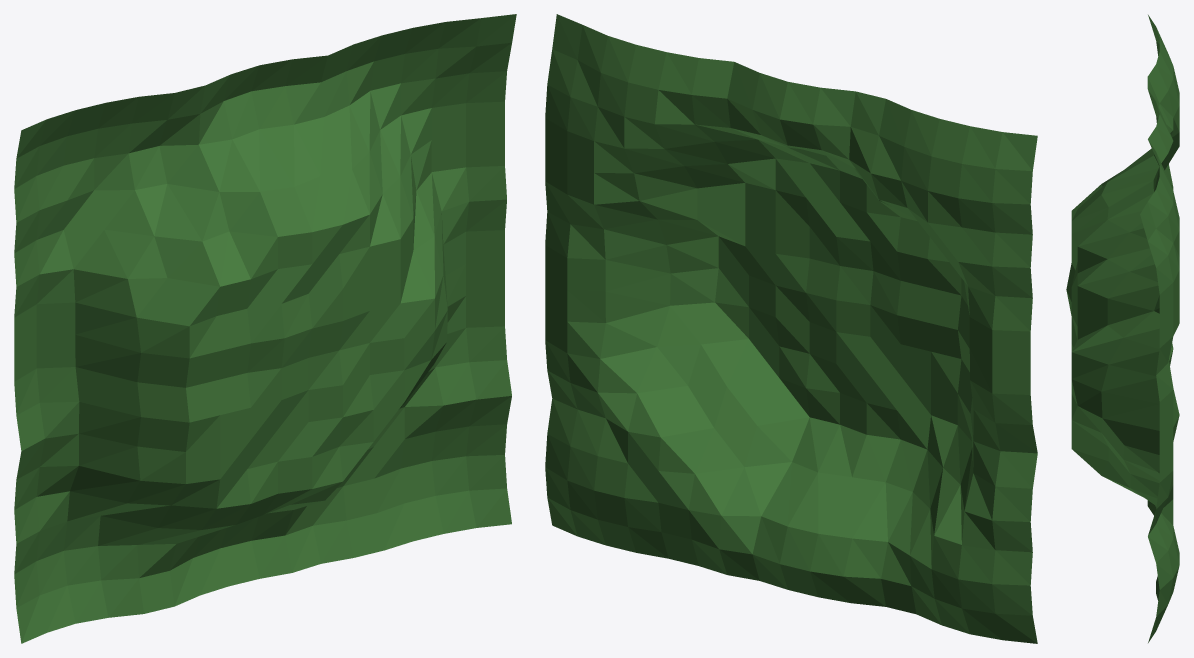
File: ground1.fbx
The picture shows the model from 3 angles, left to right: view 1: azimuth 30°, elevation 25°; view 2: azimuth 150°, elevation 25°; view 3: azimuth 270°, elevation 25°; orthographic projection. The views are drawn at different scales.
Visible parts, largest first — view 1: Plane; view 2: Plane; view 3: Plane.
Boxes of the visible parts, bbox=[...] form: Plane: bbox=[14, 14, 516, 643]; Plane: bbox=[545, 14, 1037, 643]; Plane: bbox=[1066, 15, 1179, 642].
Size of the model in its own units: 100 by 100 by 23.89.
